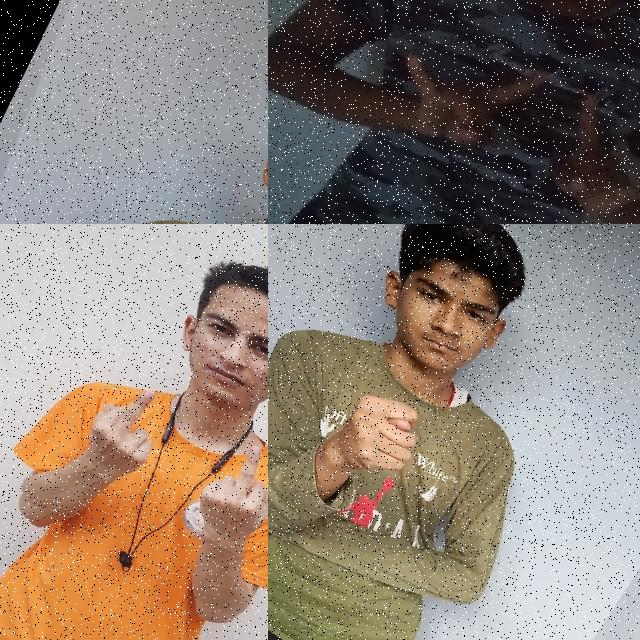Chin Flick: (186, 72, 268, 224)
Corna: (369, 9, 562, 185), (529, 85, 640, 224)
Dulya: (316, 374, 443, 506)
Middle Finger: (63, 362, 184, 502), (173, 422, 268, 571)
